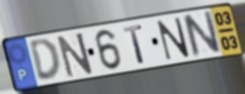6: (94, 28, 123, 72)
D: (27, 37, 62, 82)
N: (180, 9, 223, 60), (55, 31, 96, 80), (156, 16, 192, 62)
T: (121, 23, 146, 65)
